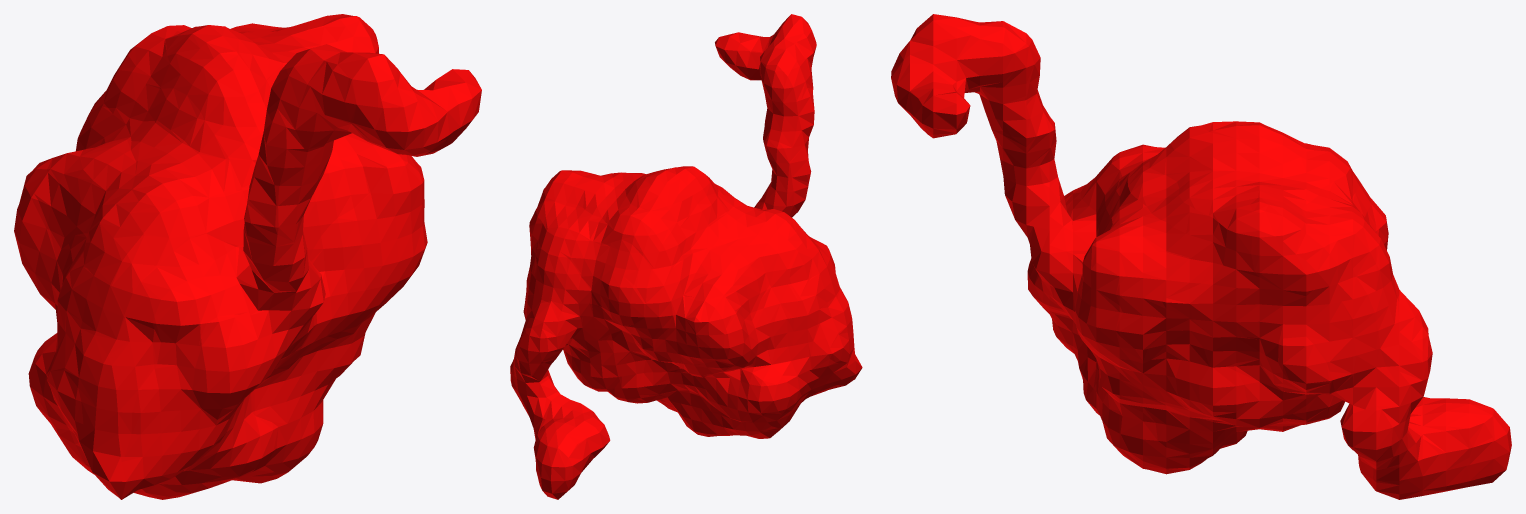
Rendered from mqo_coarse.dae.
The picture shows the model from 3 angles, left to right: view 1: azimuth 30°, elevation 25°; view 2: azimuth 150°, elevation 25°; view 3: azimuth 270°, elevation 25°; orthographic projection. The views are drawn at different scales.
Visible parts, largest first — view 1: mqo; view 2: mqo; view 3: mqo.
Boxes of the visible parts, bbox=[...] form: mqo: bbox=[14, 14, 481, 499]; mqo: bbox=[510, 14, 862, 499]; mqo: bbox=[891, 14, 1511, 499].
Bounding box in the file's own units: 61.76 × 78.65 × 99.1.
